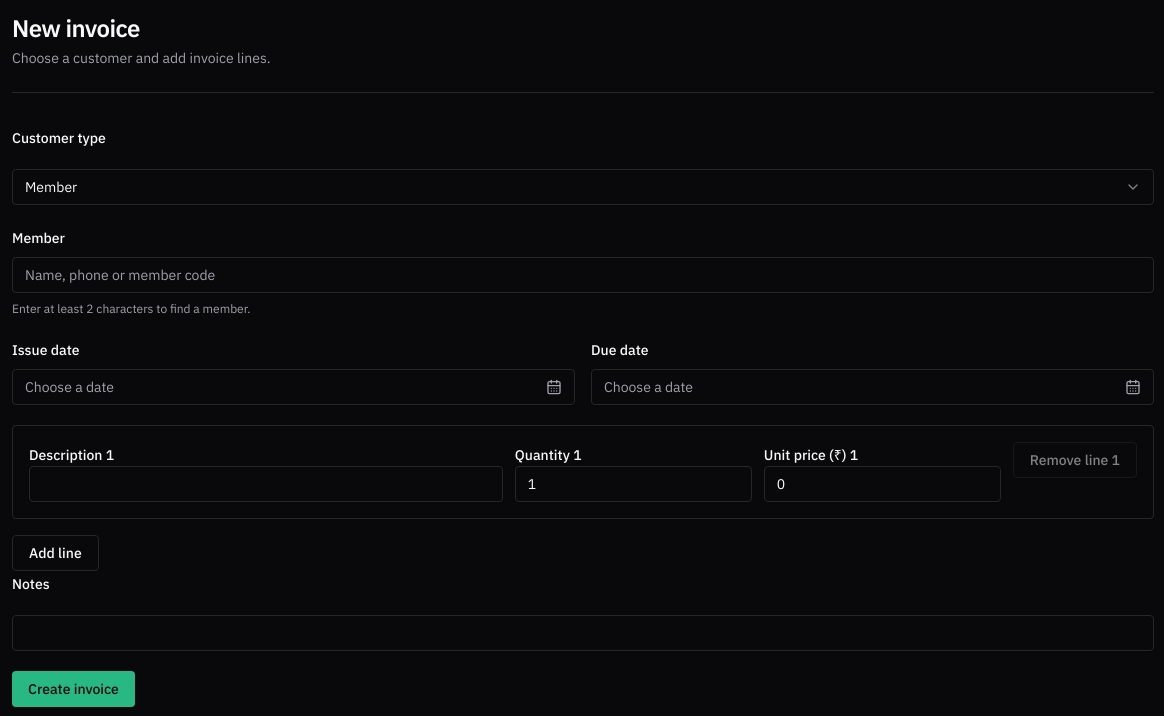
it: new invoice form › blocks missing customers and descriptions
This screenshot has width=1164, height=716.
Click the button "Create invoice" at (73, 689), box [12, 671, 135, 707]
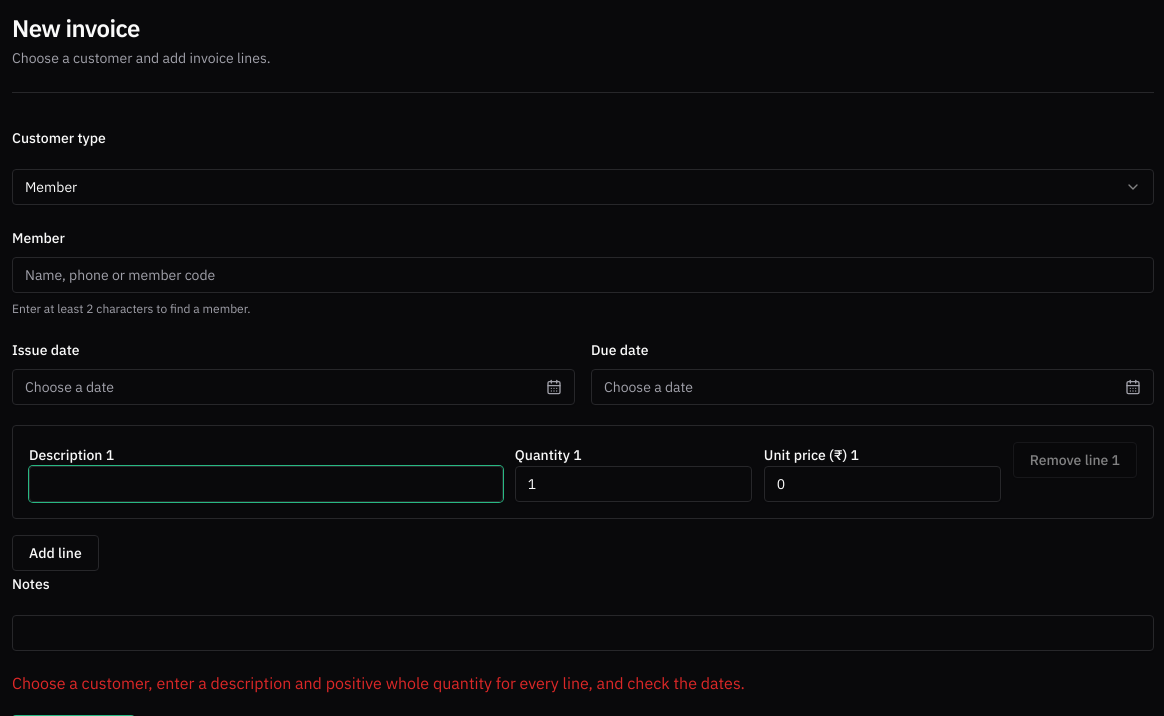
Now the message is shown, box [12, 673, 745, 693]
